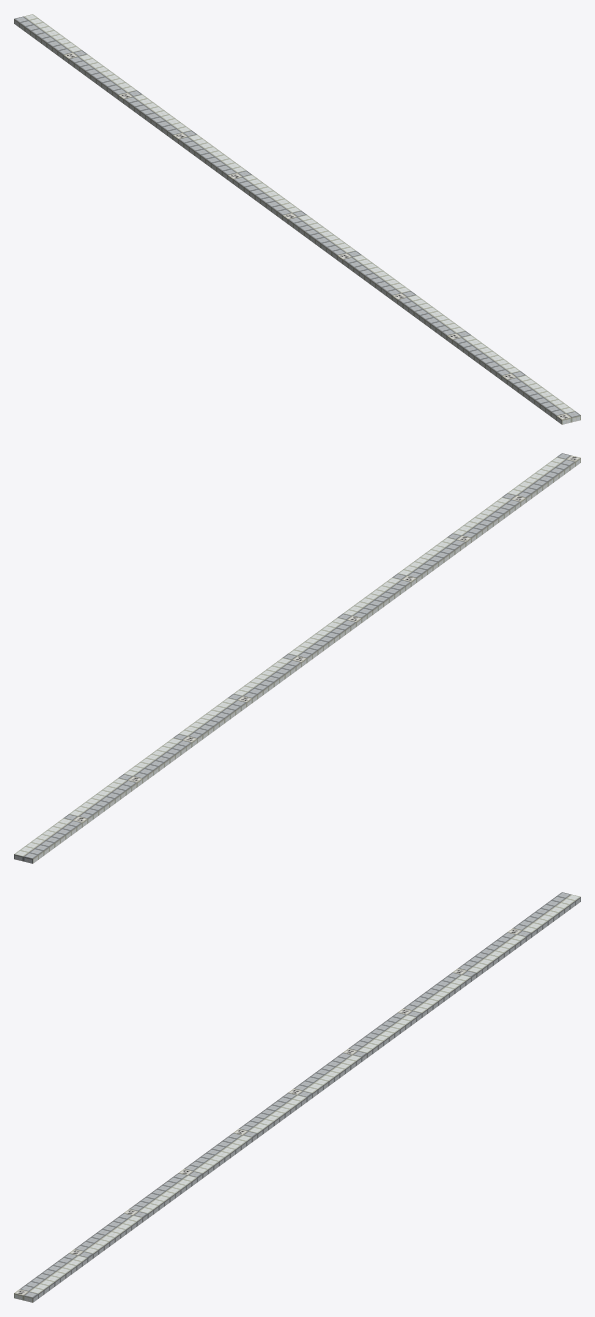
The model's file is Brick Flat 100x2.fbx.
3 renders of one model, top to bottom at view 1: azimuth 30°, elevation 25°; view 2: azimuth 150°, elevation 25°; view 3: azimuth 330°, elevation 25°, orthographic.
Parts seen in each view (by area): view 1: Cube; view 2: Cube; view 3: Cube.
Part boxes in pixels (left/top/right/bottom): Cube: left=14, top=14, right=580, bottom=424; Cube: left=14, top=453, right=580, bottom=863; Cube: left=14, top=892, right=580, bottom=1302.
Bounding box in the file's own units: 200 × 50 × 10000.
